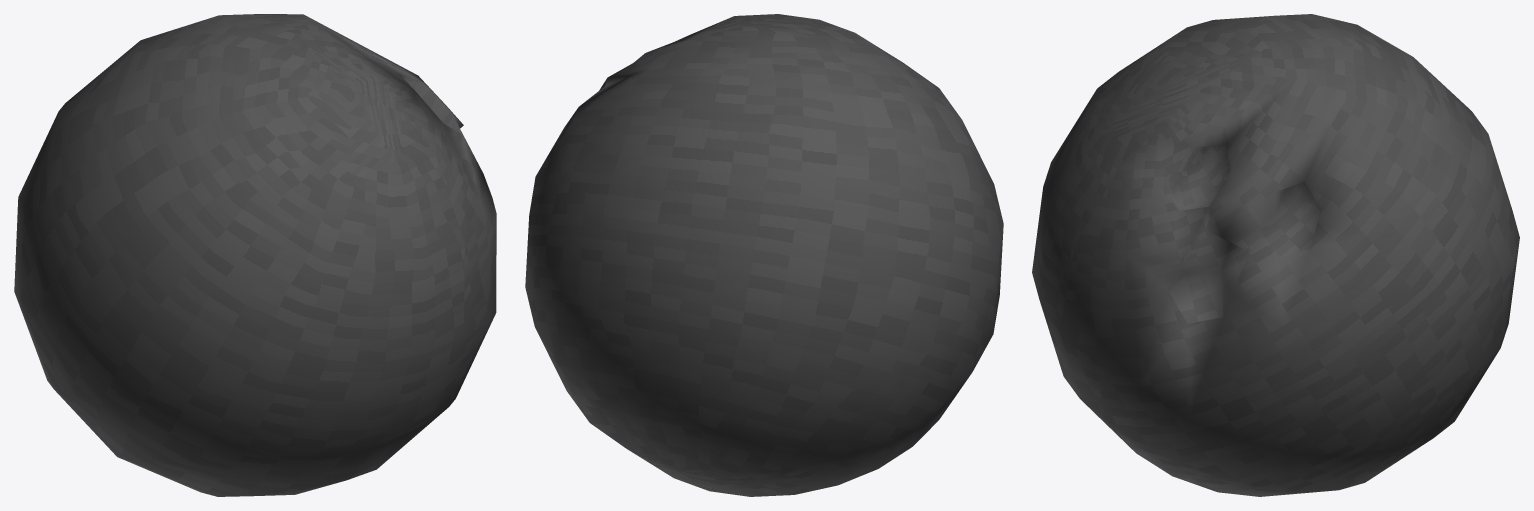
The model's file is WorldItem_HCBowlingball.fbx.
3 renders of one model, left to right at view 1: azimuth 30°, elevation 25°; view 2: azimuth 150°, elevation 25°; view 3: azimuth 270°, elevation 25°, orthographic.
Parts seen in each view (by area): view 1: BowlingBall; view 2: BowlingBall; view 3: BowlingBall.
Part boxes in pixels (<box>): BowlingBall: <box>14,14,496,496</box>; BowlingBall: <box>525,14,1003,496</box>; BowlingBall: <box>1032,14,1519,496</box>.
Bounding box in the file's own units: 0.1647 × 0.1639 × 0.1642.
